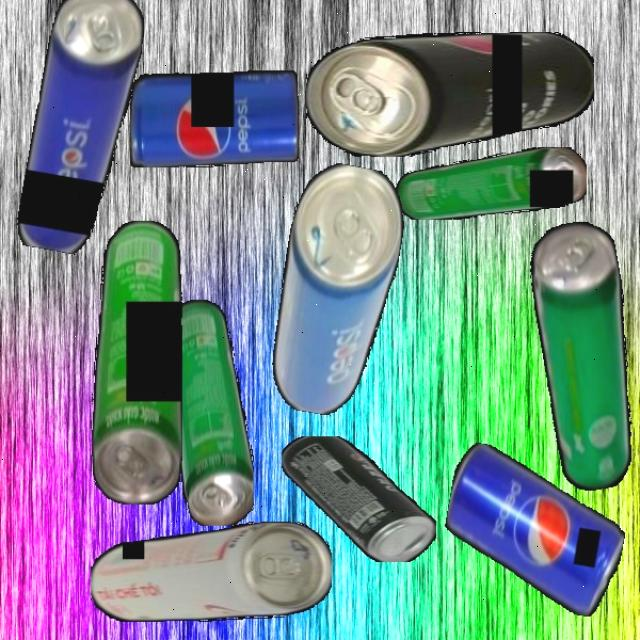debris: (260, 158, 413, 422), (434, 440, 636, 620), (306, 31, 594, 157), (14, 0, 150, 259), (517, 216, 640, 495), (90, 220, 182, 504), (90, 521, 332, 622), (167, 299, 254, 526), (282, 435, 436, 562), (129, 70, 299, 168), (394, 147, 586, 220)
